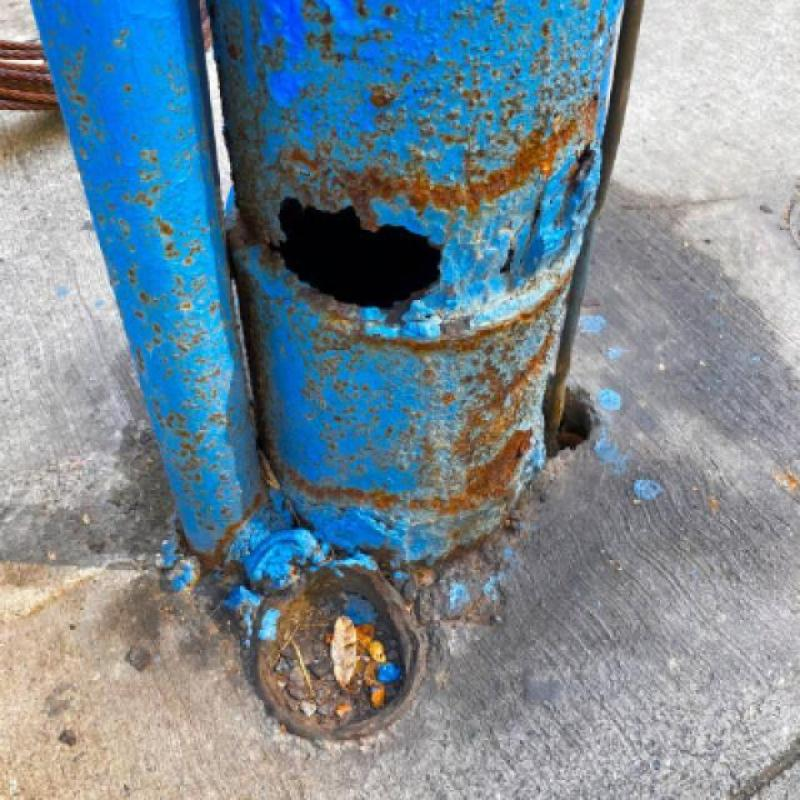Fracture: (255, 184, 456, 333)
